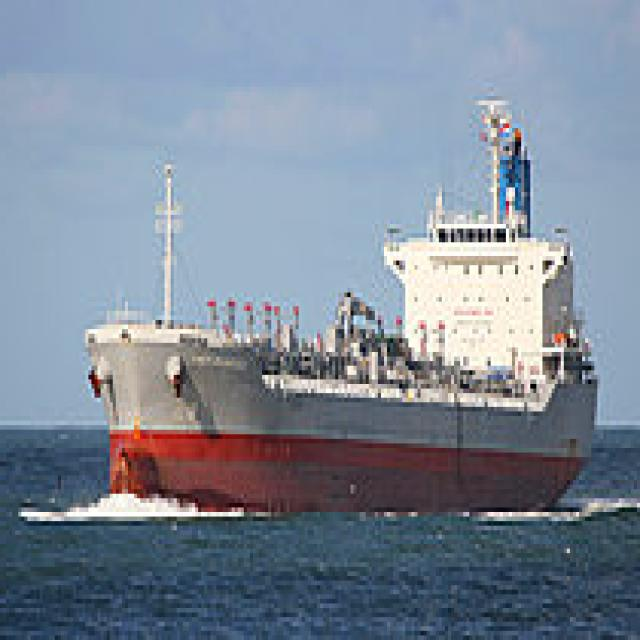Tanker: (86, 82, 604, 508)
